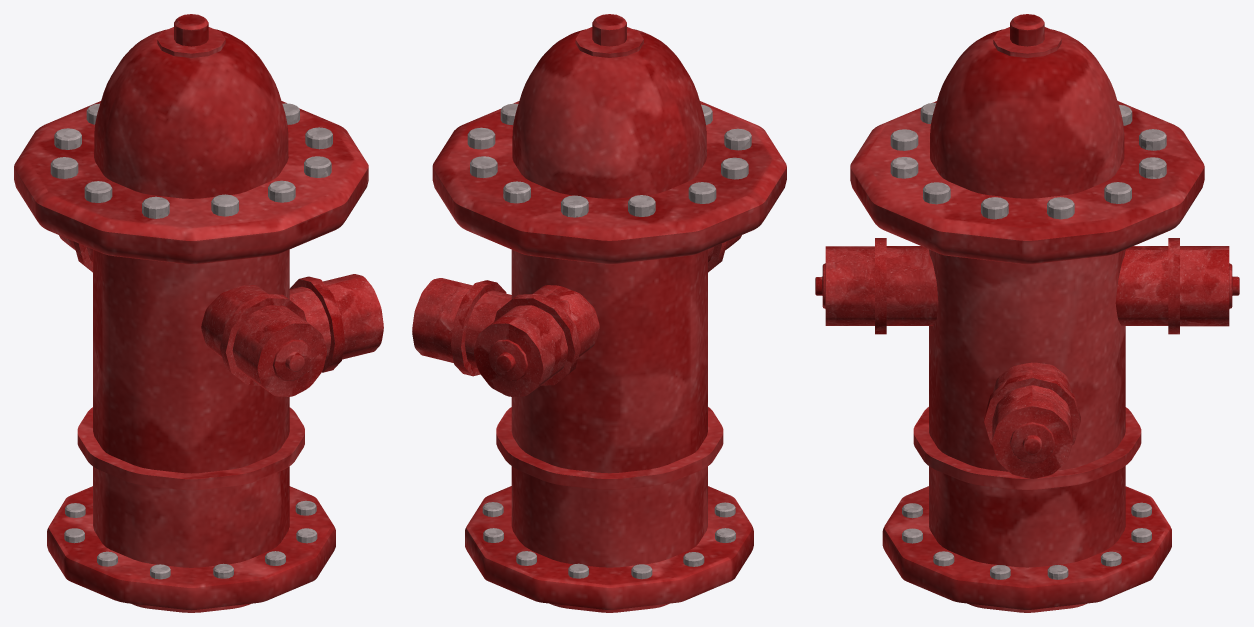
Rendered from BocaIncendios.fbx.
The picture shows the model from 3 angles, left to right: view 1: azimuth 30°, elevation 25°; view 2: azimuth 150°, elevation 25°; view 3: azimuth 270°, elevation 25°; orthographic projection.
Parts seen in each view (by area): view 1: Base, CirculosLaterales, CirclulosArriba, CirculosAbajo; view 2: Base, CirculosLaterales, CirclulosArriba, CirculosAbajo; view 3: Base, CirculosLaterales, CirclulosArriba, CirculosAbajo.
Boxes of the visible parts, x1,y1,x2,y2 form: Base: [14, 14, 368, 612]; CirculosLaterales: [59, 235, 383, 396]; CirclulosArriba: [50, 103, 332, 218]; CirculosAbajo: [64, 500, 317, 579]; Base: [432, 14, 786, 612]; CirculosLaterales: [412, 235, 741, 396]; CirclulosArriba: [467, 103, 751, 217]; CirculosAbajo: [482, 502, 735, 579]; Base: [850, 14, 1204, 612]; CirculosLaterales: [815, 238, 1239, 478]; CirclulosArriba: [890, 102, 1166, 219]; CirculosAbajo: [902, 502, 1151, 579].
Bounding box in the file's own units: 64.07 × 69.84 × 100.
